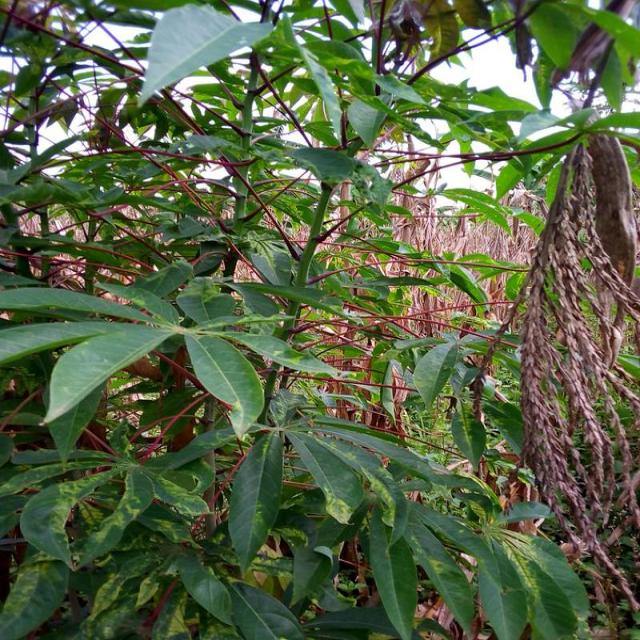cassava leaf: (138, 1, 275, 109), (184, 329, 266, 438), (228, 429, 285, 573)
